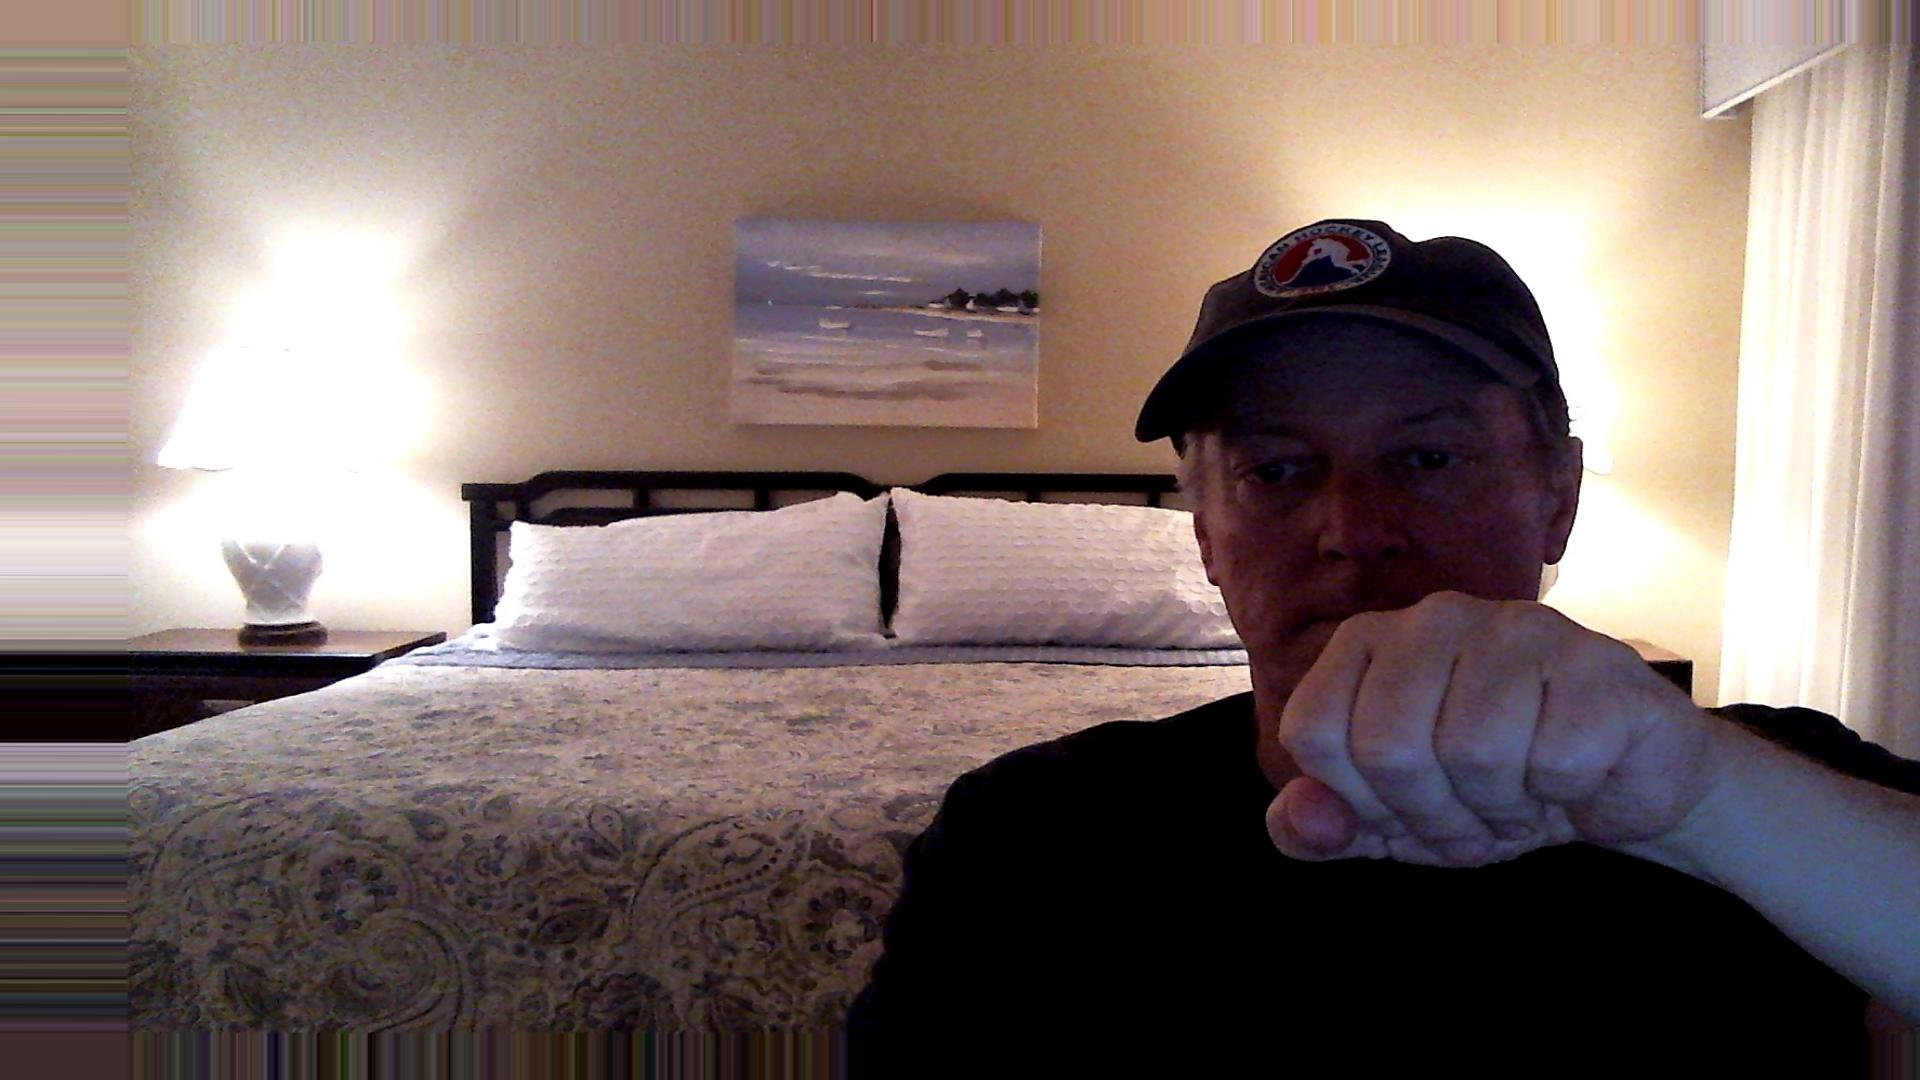Yes: (1255, 580, 1720, 906)
